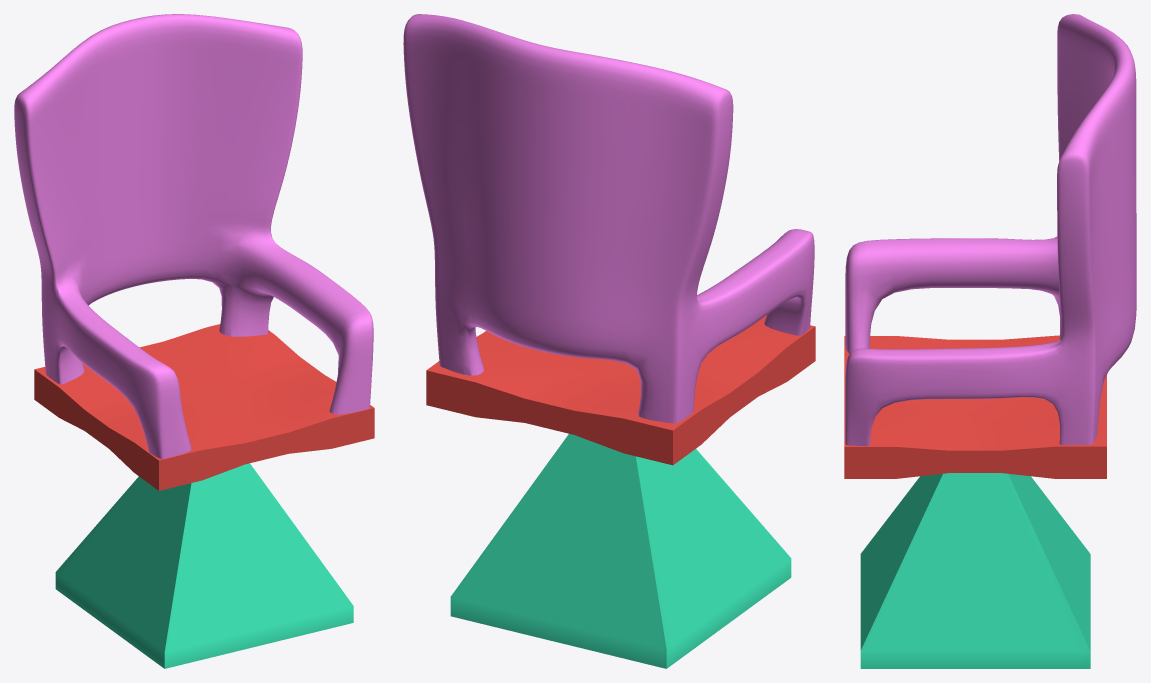
3 renders of one model, left to right at view 1: azimuth 30°, elevation 25°; view 2: azimuth 150°, elevation 25°; view 3: azimuth 270°, elevation 25°, orthographic. The views are drawn at different scales.
Parts seen in each view (by area): view 1: split_parent_2, Object_2.001, Object_2; view 2: split_parent_2, Object_2.001, Object_2; view 3: split_parent_2, Object_2.001, Object_2.
Boxes of the visible parts, <box> form: split_parent_2: <box>14,14,373,458</box>; Object_2.001: <box>55,463,353,668</box>; Object_2: <box>34,324,374,490</box>; split_parent_2: <box>403,14,814,423</box>; Object_2.001: <box>450,434,791,668</box>; Object_2: <box>426,315,815,465</box>; split_parent_2: <box>845,14,1136,446</box>; Object_2.001: <box>860,473,1090,668</box>; Object_2: <box>844,335,1106,478</box>.
Bounding box in the file's own units: 0.5443 × 1 × 0.4711.
